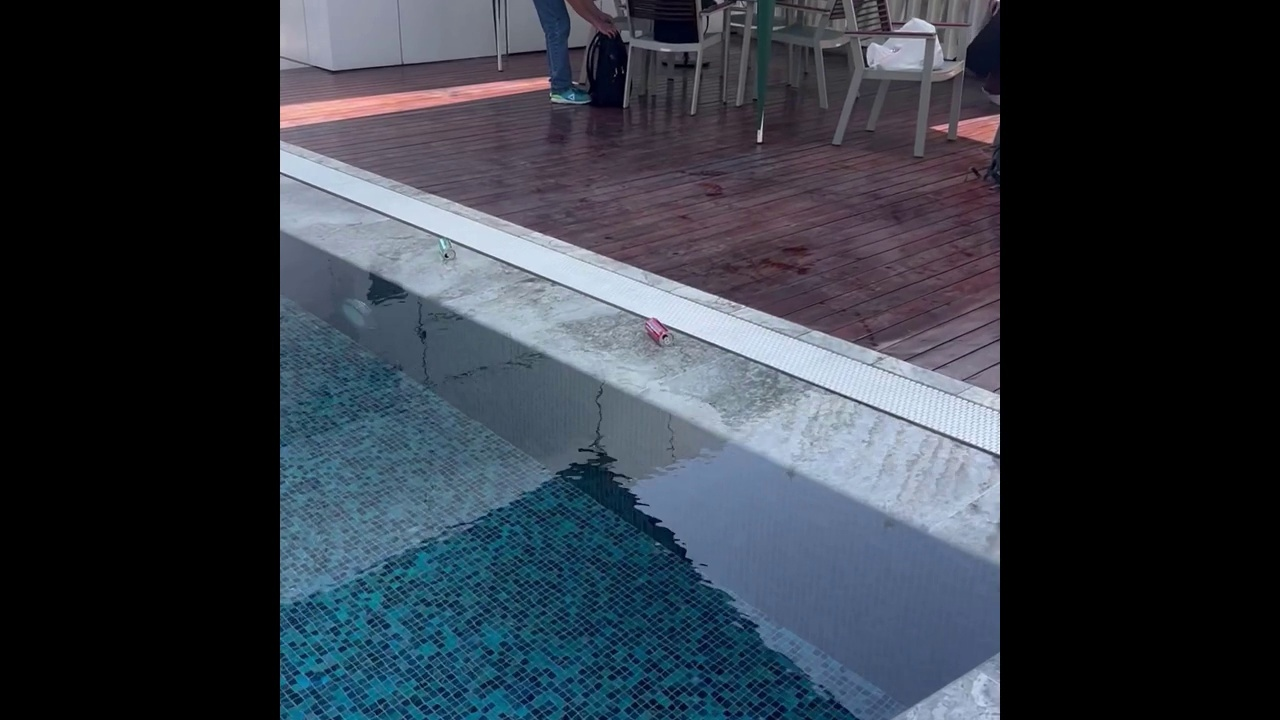debris: (645, 315, 675, 349), (435, 236, 458, 264)
